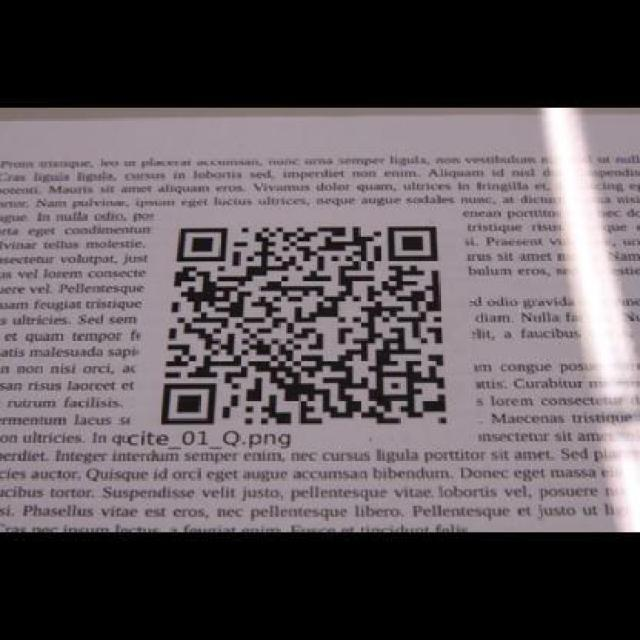QRCode: (154, 219, 459, 429)
